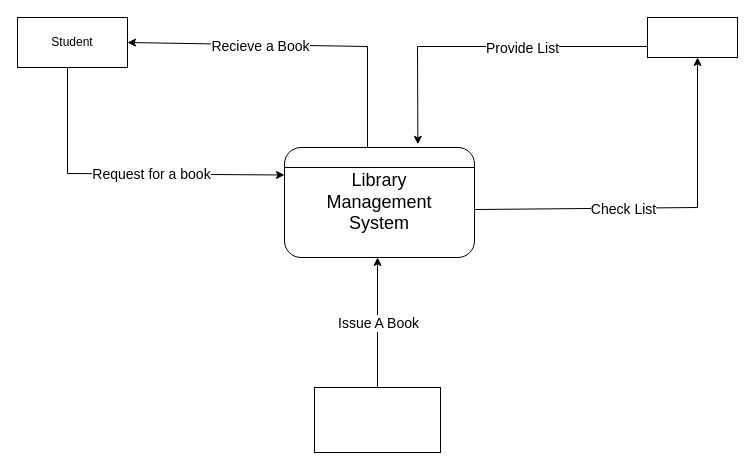
Image size: 755x470. Some labels were removed from this diagram. Here are the shapes that lost their labels. From the top down, the centre of each, then its label:
the point at 692,37: Admin
the point at 377,419: Librarian
